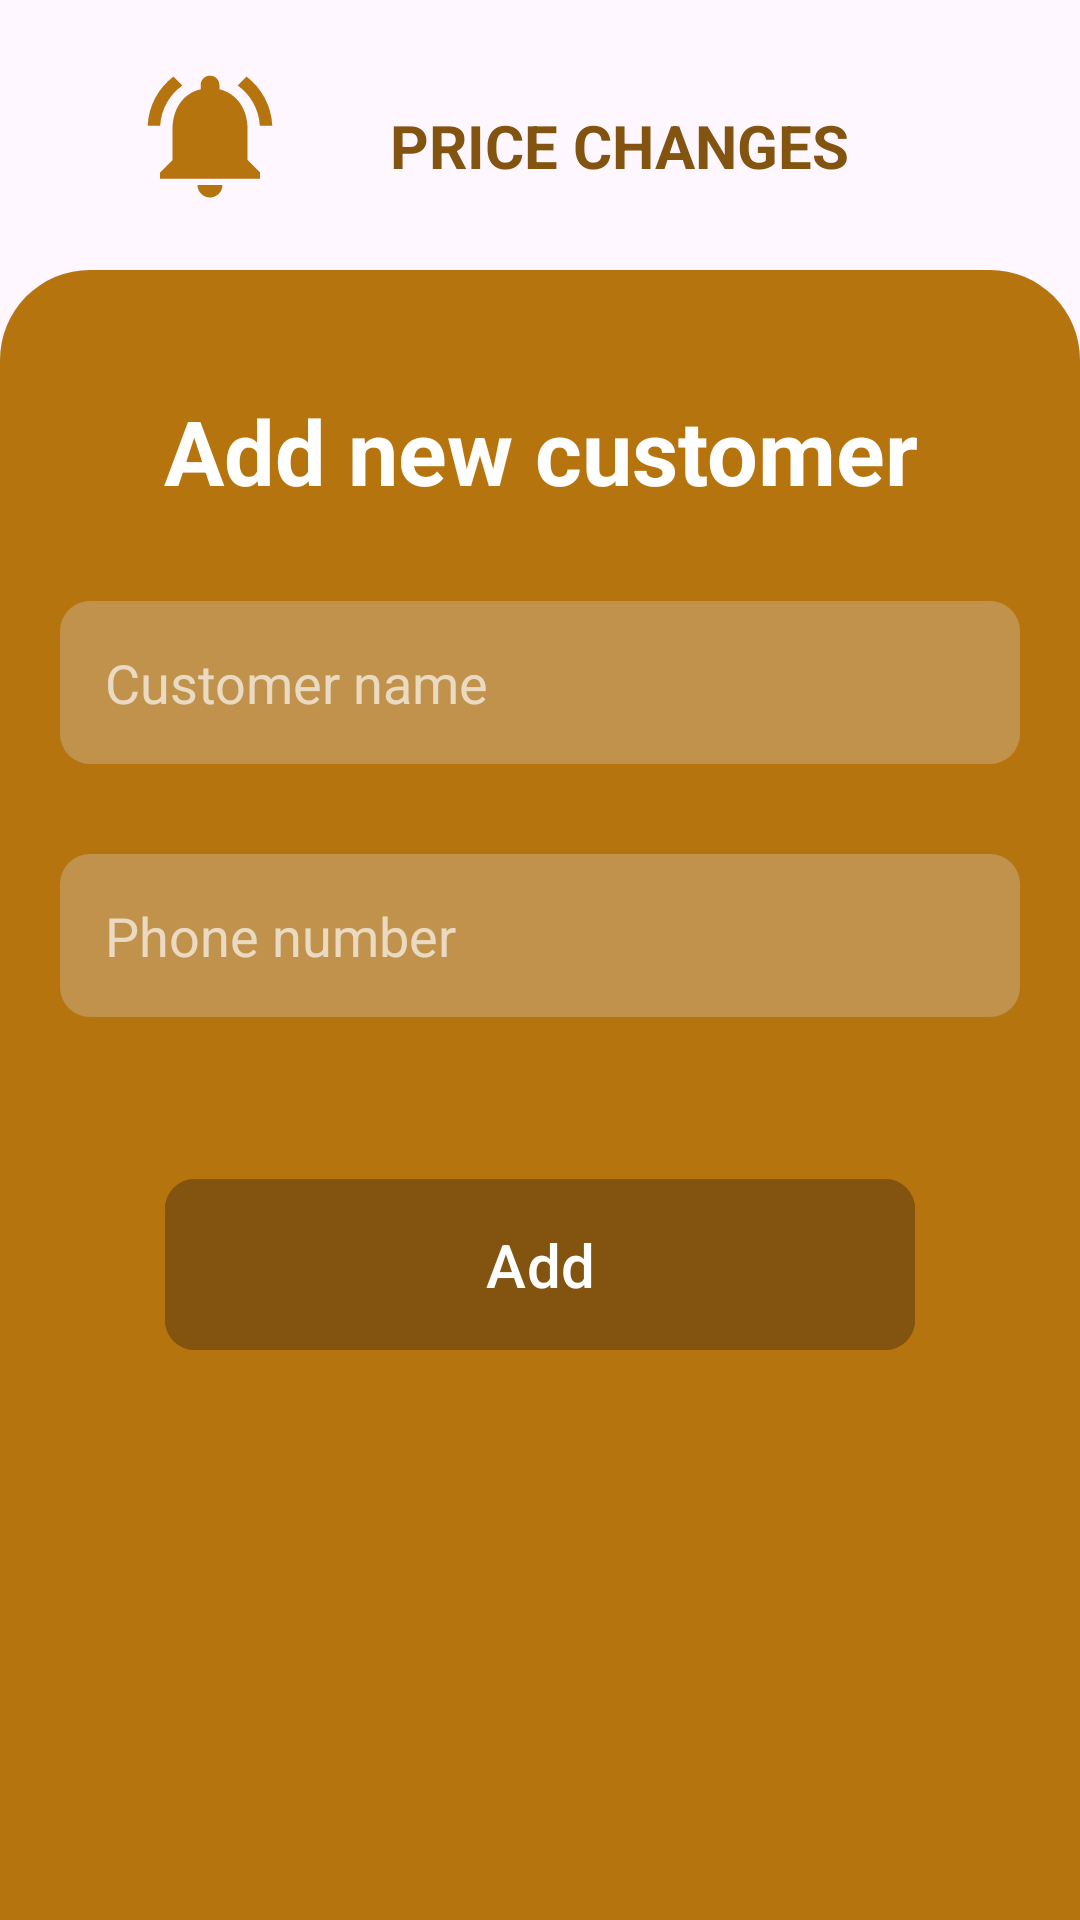

Icons on this 1080px x 1920px Android screen, each with its box as bbox=[x1, y1, x2, y2]:
notifications: bbox=[147, 75, 273, 198]
